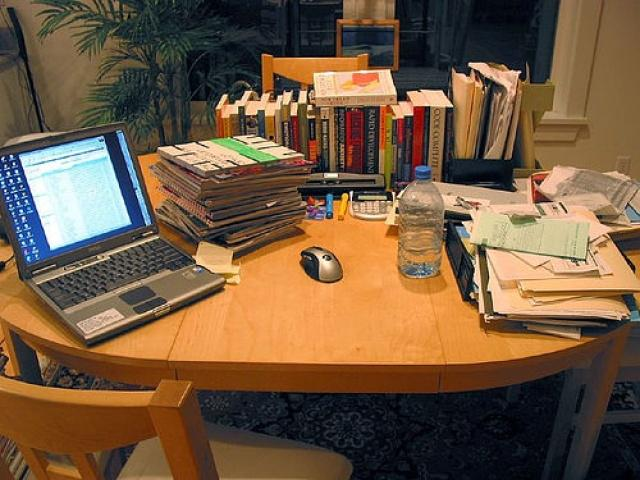Kursi: (0, 373, 356, 479)
